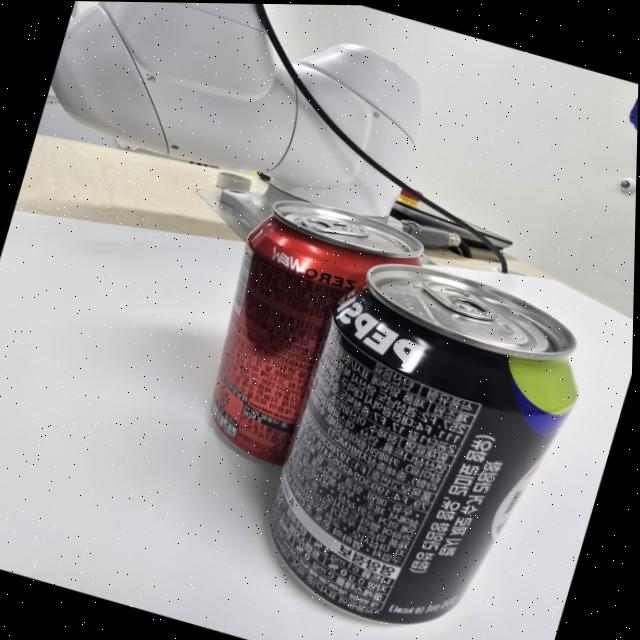can_coke_zero: (203, 204, 425, 459)
can_pepsi_zero: (265, 264, 580, 624)
